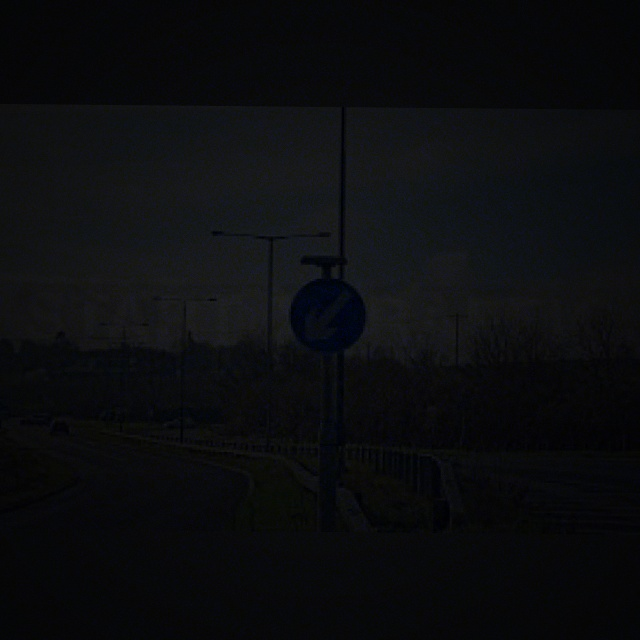Compulsory_Keep_Left: (290, 273, 366, 357)
